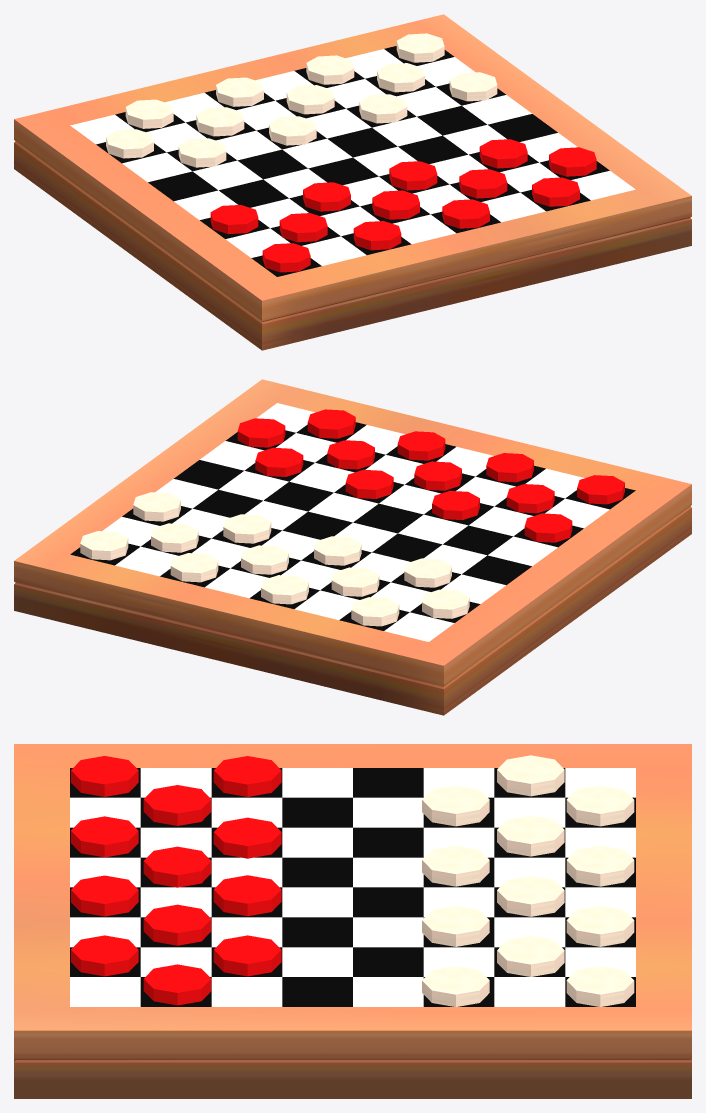
3 renders of one model, top to bottom at view 1: azimuth 30°, elevation 25°; view 2: azimuth 150°, elevation 25°; view 3: azimuth 270°, elevation 25°, orthographic. The views are drawn at different scales.
Parts seen in each view (by area): view 1: CheckersAndChessGameCheckers; view 2: CheckersAndChessGameCheckers; view 3: CheckersAndChessGameCheckers.
Boxes of the visible parts, x1,y1,x2,y2 form: CheckersAndChessGameCheckers: (14,14,691,350); CheckersAndChessGameCheckers: (14,379,691,715); CheckersAndChessGameCheckers: (14,744,691,1098).
Size of what is drawn, in the model's own units: 0.611 by 0.0802 by 0.611.
Materials: 1 (1 with a texture image).
